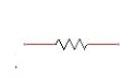resistor: (45, 34, 95, 51)
